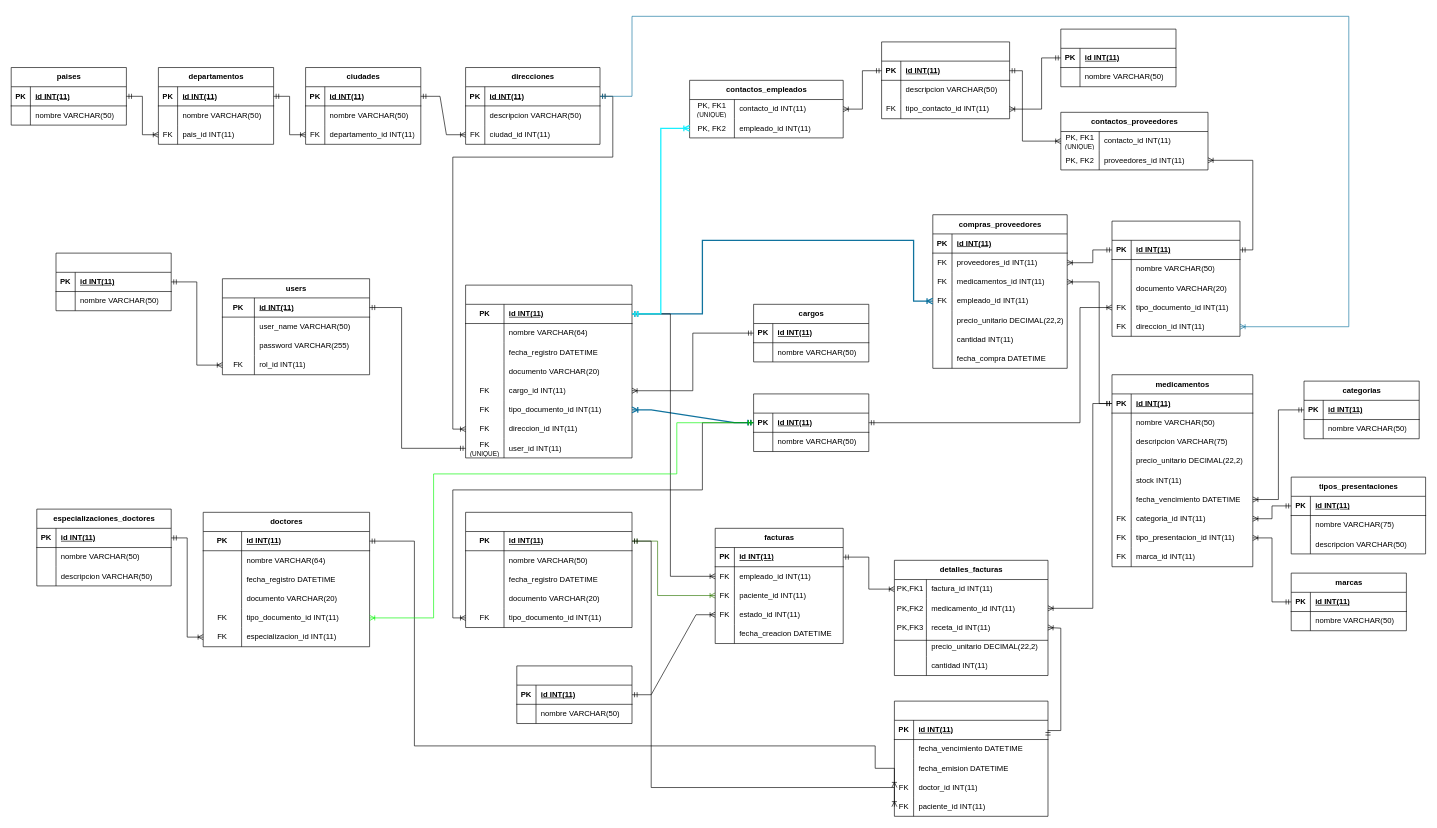
Image size: 1437x828. Some labels were removed from this diagram. Each missing label, with the box of its shape:
contactos: (881, 41, 1010, 119)
empleados: (465, 284, 632, 458)
estados: (516, 665, 632, 724)
pacientes: (465, 512, 632, 628)
proveedores: (1111, 220, 1240, 336)
recetas: (894, 700, 1048, 816)
roles: (55, 252, 171, 311)
tipos_contactos: (1060, 28, 1176, 87)
tipos_documentos: (753, 393, 869, 452)
